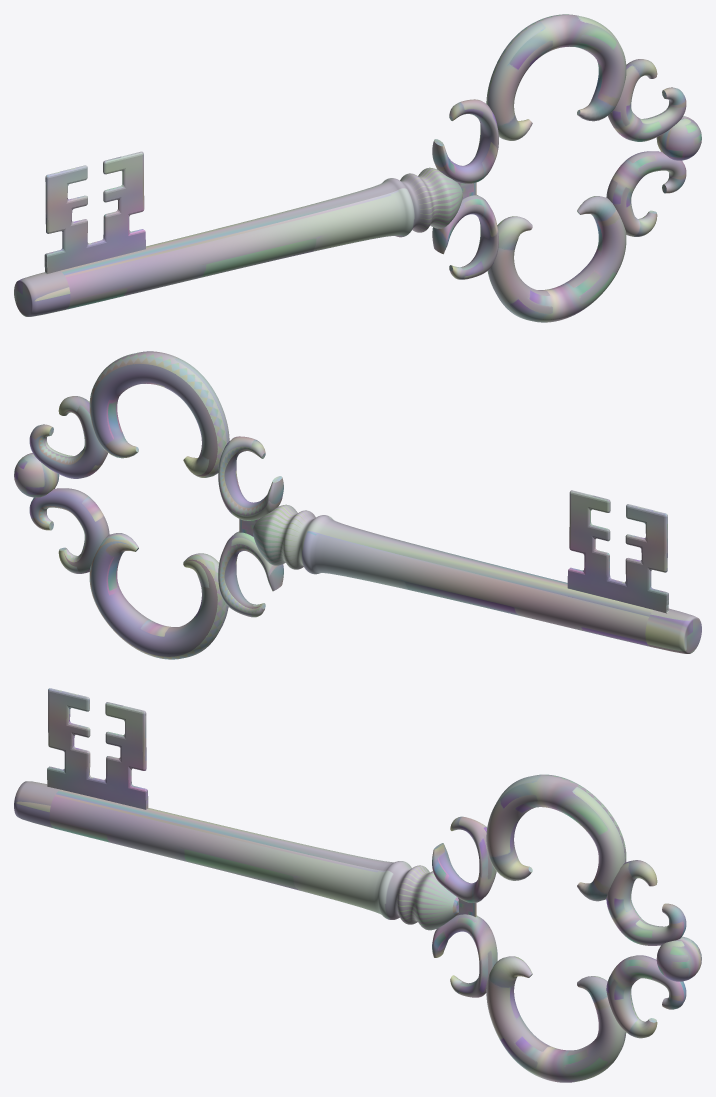
Rendered from Key.fbx.
The picture shows the model from 3 angles, top to bottom: view 1: azimuth 30°, elevation 25°; view 2: azimuth 150°, elevation 25°; view 3: azimuth 330°, elevation 25°; orthographic projection.
Parts seen in each view (by area): view 1: Key; view 2: Key; view 3: Key.
Boxes of the visible parts, bbox=[...] form: Key: bbox=[14, 14, 701, 322]; Key: bbox=[14, 351, 701, 659]; Key: bbox=[14, 688, 701, 1082].
Size of the model in its own units: 456 by 195 by 36.31.
1 material, 1 textured.
